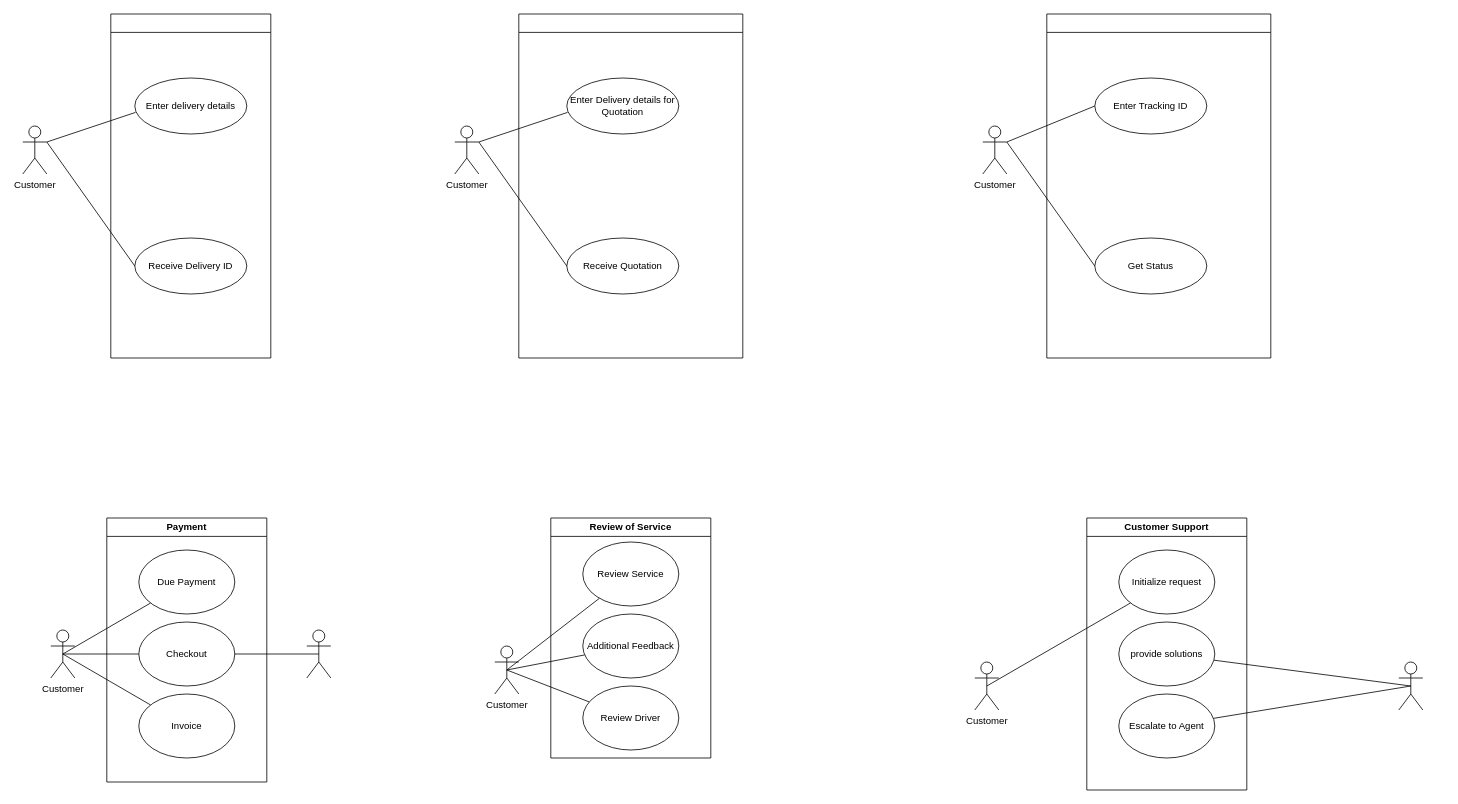
This 1458x804 diagram has some shape labels left out. Here are the shapes that lost their labels. From the top down, the box of each, then its label:
(110, 13, 271, 358): Request the delivery
(518, 13, 743, 358): Proposal of quotation for delivery service
(1046, 13, 1271, 358): Tracking the Delivery
(306, 629, 331, 678): Credit Payment Service
(1398, 661, 1423, 710): AI Chat Service
